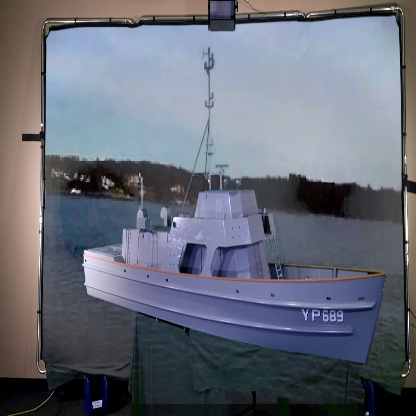YP689: (82, 46, 388, 368)
